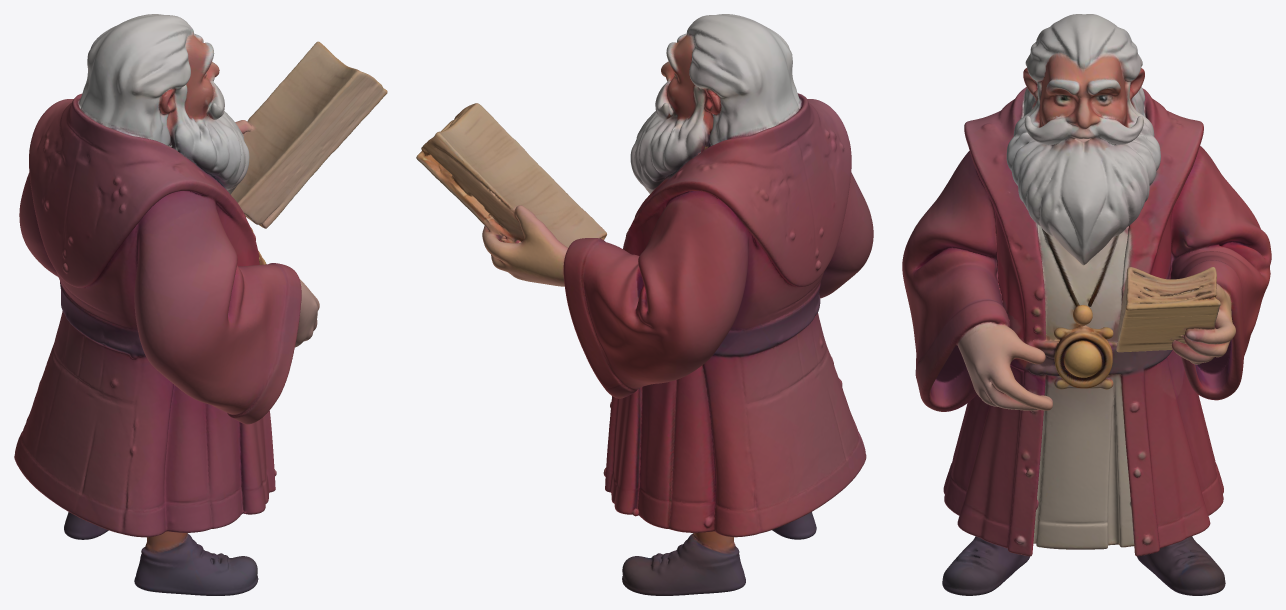
File: scribe_teacher 2.glb
The picture shows the model from 3 angles, left to right: view 1: azimuth 30°, elevation 25°; view 2: azimuth 150°, elevation 25°; view 3: azimuth 270°, elevation 25°; orthographic projection. The views are drawn at different scales.
Parts seen in each view (by area): view 1: tripo_node_250fd126-8b91-42f1-901b-9a6d0bc83ce1; view 2: tripo_node_250fd126-8b91-42f1-901b-9a6d0bc83ce1; view 3: tripo_node_250fd126-8b91-42f1-901b-9a6d0bc83ce1.
Part boxes in pixels (x1,y1,x2,y2): tripo_node_250fd126-8b91-42f1-901b-9a6d0bc83ce1: [14, 14, 387, 595]; tripo_node_250fd126-8b91-42f1-901b-9a6d0bc83ce1: [416, 14, 873, 595]; tripo_node_250fd126-8b91-42f1-901b-9a6d0bc83ce1: [902, 14, 1271, 595].
Size of the model in its own units: 0.7089 by 1 by 0.6058.
Materials: 1 (1 with a texture image).
